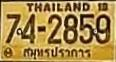2: (47, 13, 61, 44)
4: (20, 13, 35, 43)
5: (79, 13, 94, 43)
7: (6, 13, 20, 42)
8: (63, 13, 77, 43)
9: (94, 13, 110, 43)
SPK: (20, 45, 93, 61)
